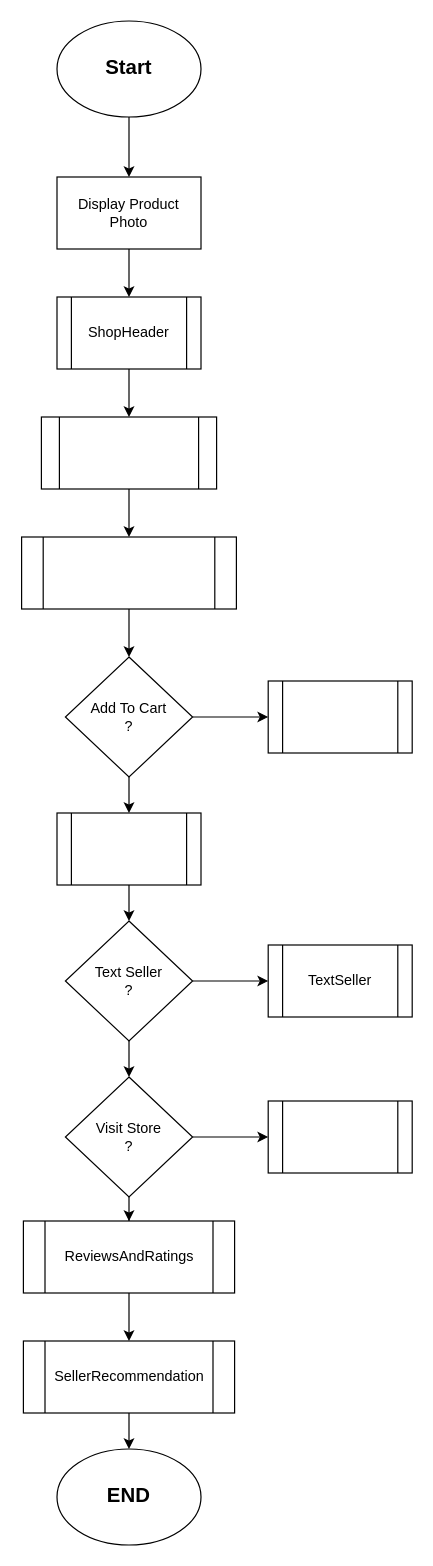
Some shapes in this 433 by 1566 pixel diagram are drawn without their labels. Here are the shapes that lost their labels. From the top down, the centre of each, then its label:
point 128,452: ProductDescription
point 128,572: ProductCustomization
point 339,716: AddToCart
point 128,848: AboutSeller
point 339,1136: VisitStore
